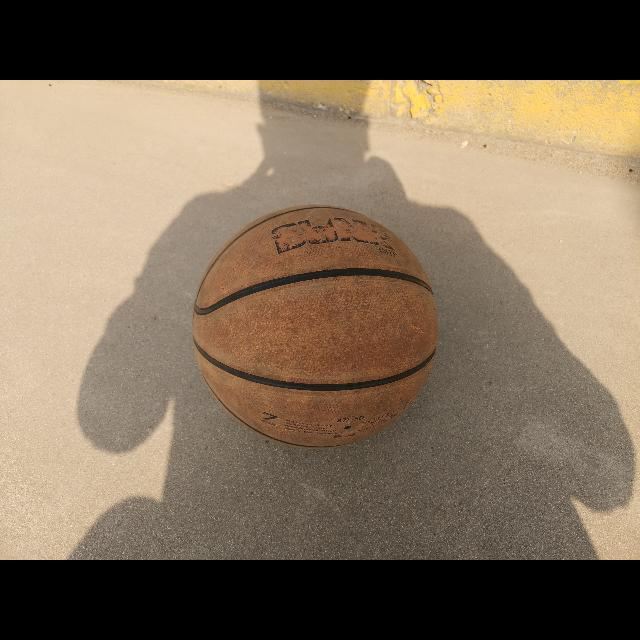basketball: (196, 207, 437, 449)
